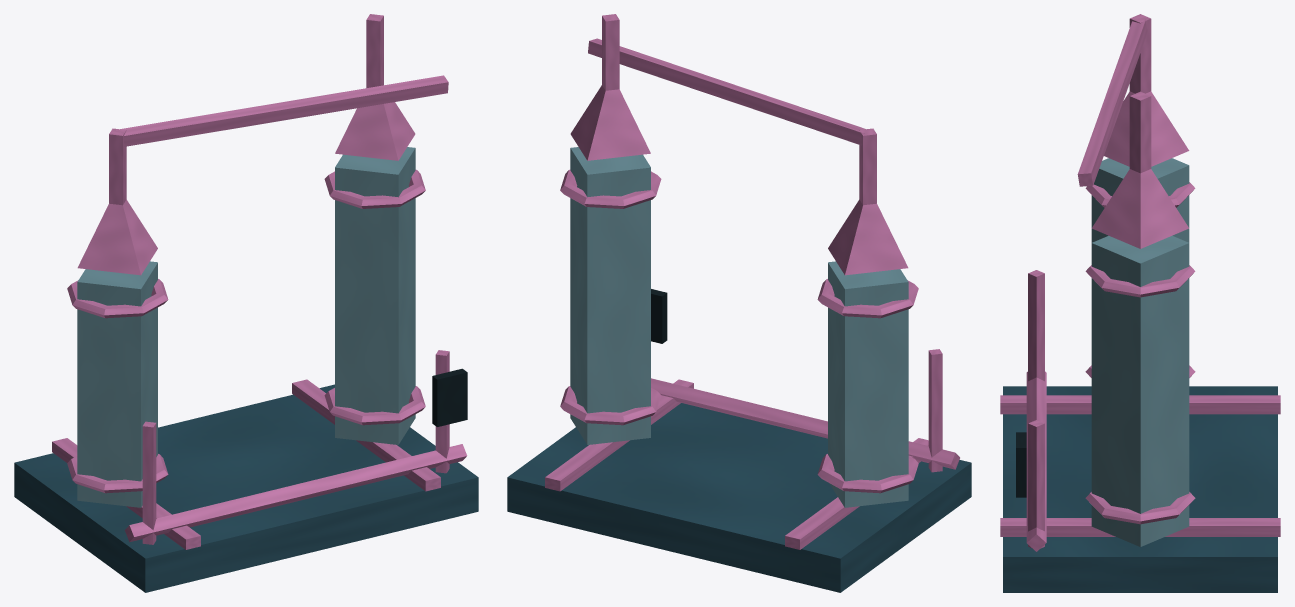
File: atlas100-s064-a01.lod2.glb
The picture shows the model from 3 angles, left to right: view 1: azimuth 30°, elevation 25°; view 2: azimuth 150°, elevation 25°; view 3: azimuth 270°, elevation 25°; orthographic projection. The views are drawn at different scales.
Parts seen in each view (by area): view 1: atlas100-s064-a01:part-000, atlas100-s064-a01:part-010, atlas100-s064-a01:part-003, atlas100-s064-a01:part-009, atlas100-s064-a01:part-021, atlas100-s064-a01:part-007, atlas100-s064-a01:part-014, atlas100-s064-a01:part-002, atlas100-s064-a01:part-020, atlas100-s064-a01:part-017, atlas100-s064-a01:part-005, atlas100-s064-a01:part-011 (+6 smaller); view 2: atlas100-s064-a01:part-000, atlas100-s064-a01:part-010, atlas100-s064-a01:part-003, atlas100-s064-a01:part-009, atlas100-s064-a01:part-021, atlas100-s064-a01:part-007, atlas100-s064-a01:part-014, atlas100-s064-a01:part-002, atlas100-s064-a01:part-017, atlas100-s064-a01:part-001, atlas100-s064-a01:part-005, atlas100-s064-a01:part-004 (+5 smaller); view 3: atlas100-s064-a01:part-000, atlas100-s064-a01:part-010, atlas100-s064-a01:part-014, atlas100-s064-a01:part-002, atlas100-s064-a01:part-001, atlas100-s064-a01:part-009, atlas100-s064-a01:part-007, atlas100-s064-a01:part-003, atlas100-s064-a01:part-019, atlas100-s064-a01:part-017, atlas100-s064-a01:part-015, atlas100-s064-a01:part-021 (+5 smaller).
Boxes of the visible parts, left/top/right/bottom form: atlas100-s064-a01:part-000: left=14, top=384, right=478, bottom=592; atlas100-s064-a01:part-010: left=335, top=147, right=415, bottom=444; atlas100-s064-a01:part-003: left=77, top=261, right=157, bottom=507; atlas100-s064-a01:part-009: left=116, top=75, right=448, bottom=146; atlas100-s064-a01:part-021: left=124, top=444, right=467, bottom=542; atlas100-s064-a01:part-007: left=77, top=199, right=157, bottom=275; atlas100-s064-a01:part-014: left=335, top=102, right=415, bottom=160; atlas100-s064-a01:part-002: left=292, top=379, right=440, bottom=491; atlas100-s064-a01:part-020: left=432, top=368, right=467, bottom=426; atlas100-s064-a01:part-017: left=142, top=421, right=156, bottom=544; atlas100-s064-a01:part-005: left=67, top=279, right=168, bottom=318; atlas100-s064-a01:part-011: left=324, top=386, right=425, bottom=425; atlas100-s064-a01:part-000: left=507, top=403, right=971, bottom=592; atlas100-s064-a01:part-010: left=570, top=147, right=650, bottom=444; atlas100-s064-a01:part-003: left=828, top=261, right=908, bottom=507; atlas100-s064-a01:part-009: left=588, top=38, right=865, bottom=145; atlas100-s064-a01:part-021: left=651, top=378, right=959, bottom=469; atlas100-s064-a01:part-007: left=828, top=199, right=908, bottom=275; atlas100-s064-a01:part-014: left=570, top=85, right=650, bottom=160; atlas100-s064-a01:part-002: left=545, top=379, right=693, bottom=491; atlas100-s064-a01:part-017: left=928, top=349, right=942, bottom=472; atlas100-s064-a01:part-001: left=785, top=438, right=928, bottom=549; atlas100-s064-a01:part-005: left=817, top=279, right=918, bottom=318; atlas100-s064-a01:part-004: left=817, top=454, right=918, bottom=493; atlas100-s064-a01:part-000: left=1003, top=386, right=1277, bottom=592; atlas100-s064-a01:part-010: left=1091, top=235, right=1189, bottom=546; atlas100-s064-a01:part-014: left=1091, top=169, right=1189, bottom=248; atlas100-s064-a01:part-002: left=1000, top=518, right=1280, bottom=536; atlas100-s064-a01:part-001: left=1000, top=395, right=1280, bottom=414; atlas100-s064-a01:part-009: left=1077, top=18, right=1147, bottom=186; atlas100-s064-a01:part-007: left=1104, top=91, right=1189, bottom=166; atlas100-s064-a01:part-003: left=1091, top=158, right=1189, bottom=242; atlas100-s064-a01:part-019: left=1028, top=420, right=1044, bottom=548; atlas100-s064-a01:part-017: left=1028, top=270, right=1044, bottom=381; atlas100-s064-a01:part-015: left=1129, top=91, right=1151, bottom=173; atlas100-s064-a01:part-021: left=1026, top=371, right=1046, bottom=551.
Size of the model in its own units: 2.76 by 3.45 by 1.84.
4 materials, 4 textured.
